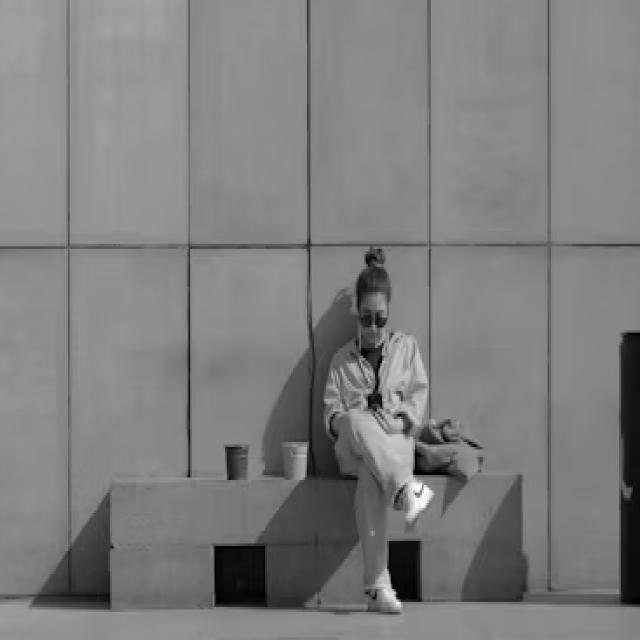Edited images: (302, 229, 498, 615)
